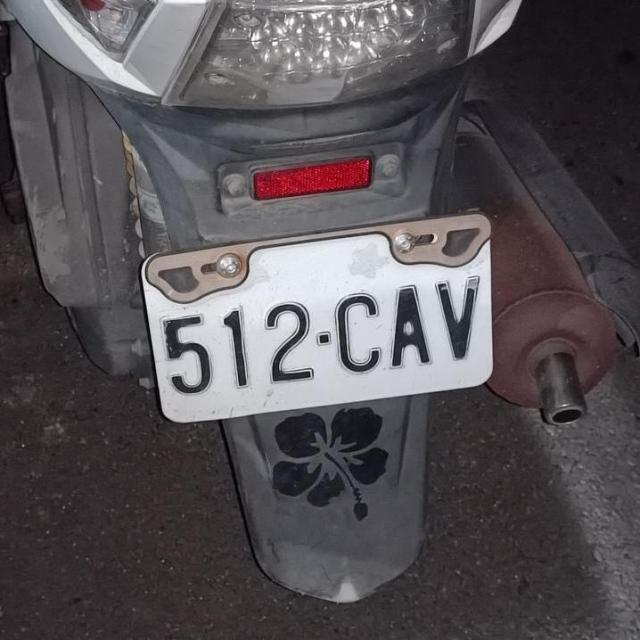W: (130, 214, 514, 423)
